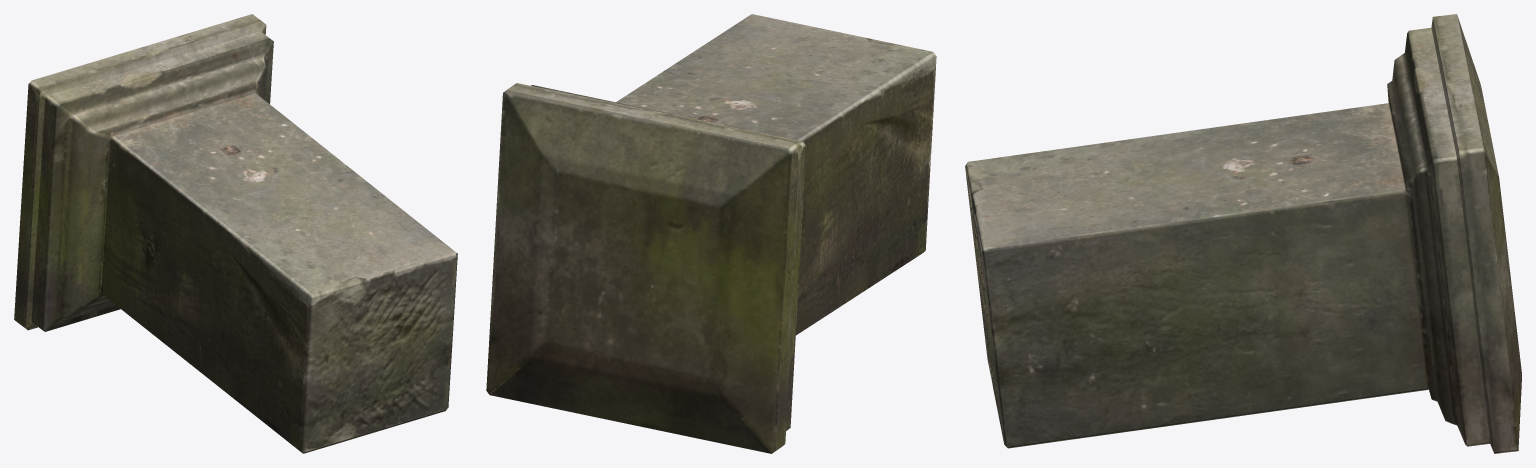
Rendered from sm_PlatformColumns_01_04.fbx.
3 views of the same model, side by side, from view 1: azimuth 30°, elevation 25°; view 2: azimuth 150°, elevation 25°; view 3: azimuth 270°, elevation 25° (orthographic). The views are drawn at different scales.
Visible parts, largest first — view 1: sm_PlatformColumns_01_04_LOD0; view 2: sm_PlatformColumns_01_04_LOD0; view 3: sm_PlatformColumns_01_04_LOD0.
Part boxes in pixels (x1,y1,x2,y2): sm_PlatformColumns_01_04_LOD0: (14,14,457,453); sm_PlatformColumns_01_04_LOD0: (486,14,936,453); sm_PlatformColumns_01_04_LOD0: (965,14,1521,453).
Bounding box in the file's own units: 44.26 × 74.17 × 45.23.
